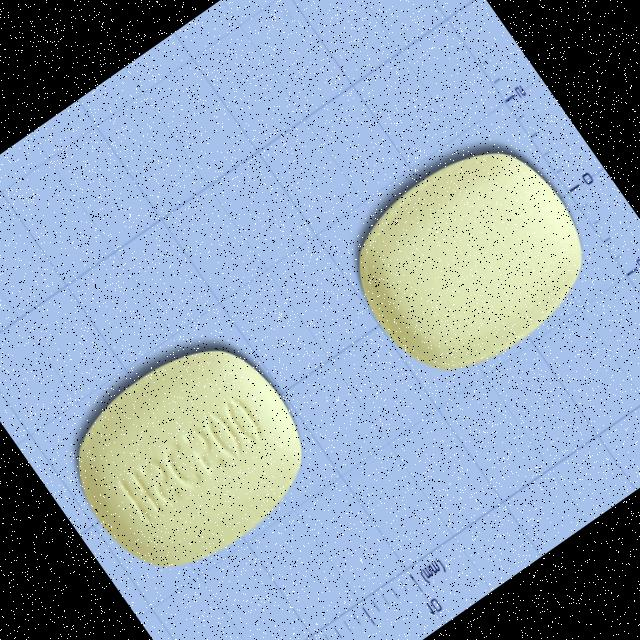Clithro: (45, 316, 335, 600), (325, 121, 615, 402)
